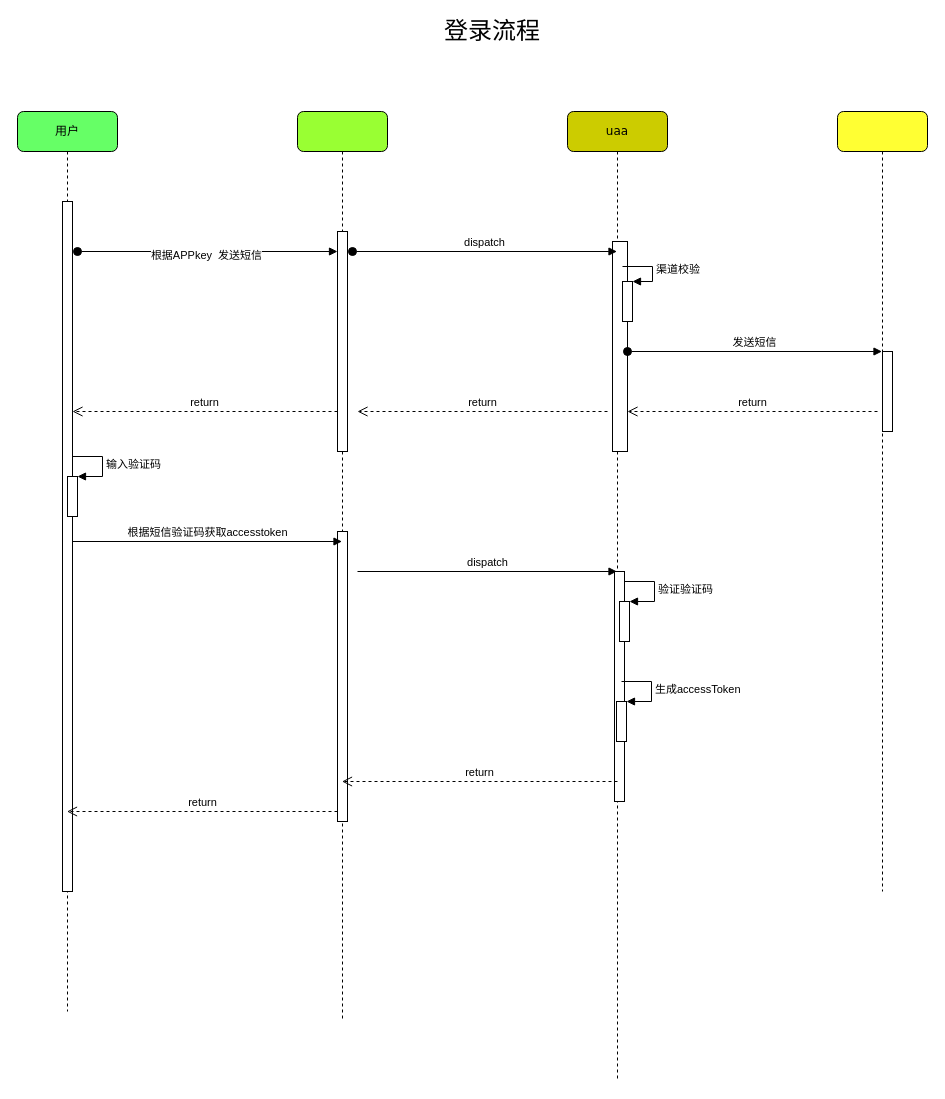
The diagram is 945 pixels wide and 1099 high, and some of its shapes have lost their labels. The box of each missing label's shape, as (x1, y1, x2, y2) in pixels:
gateway: (296, 110, 388, 1022)
短信服务: (836, 110, 928, 892)
